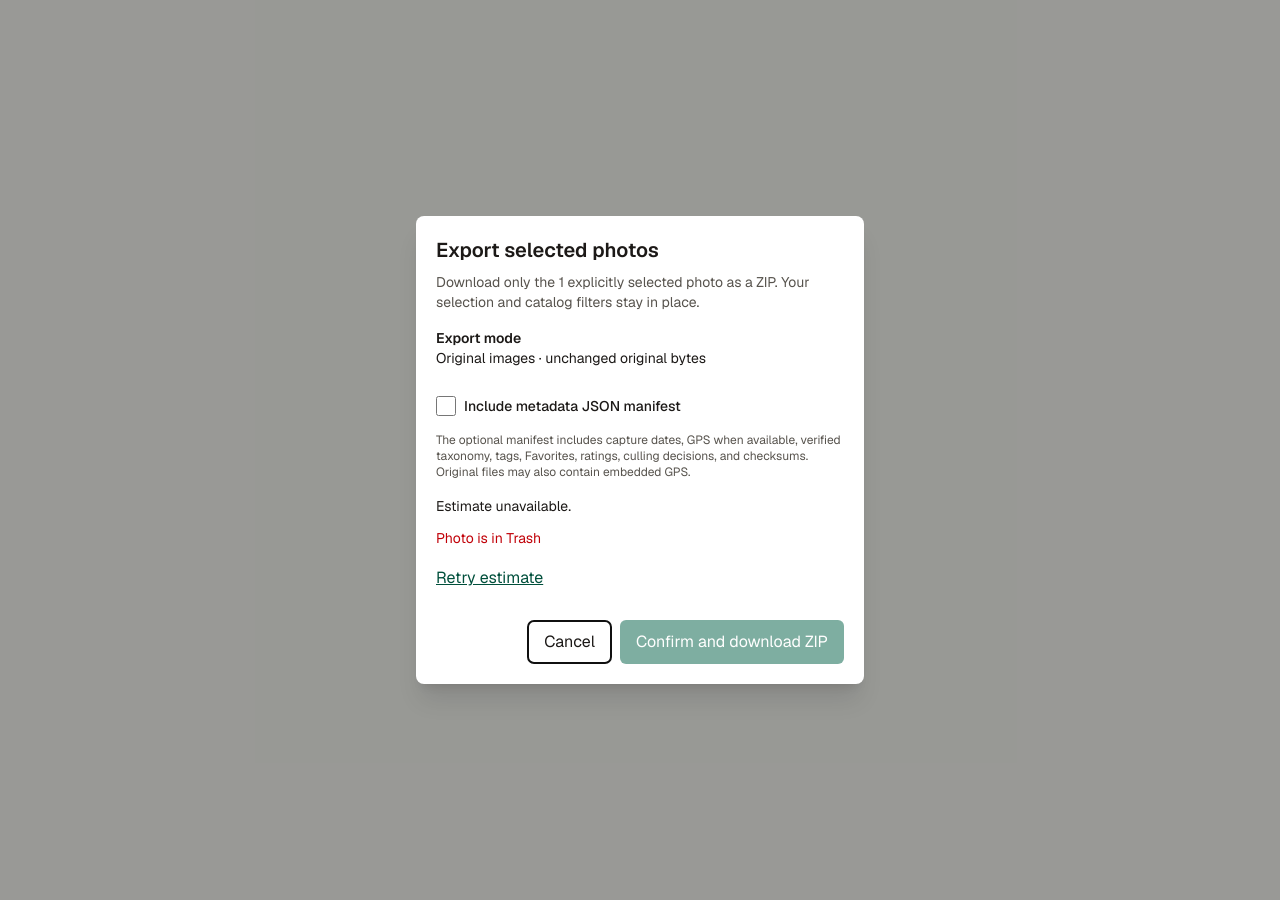
it: estimate failure disables confirmation and can be retried
Check: the message "Photo is in Trash" is shown, box [436,529,541,547]
Check: the button "Confirm and download ZIP" is disabled, box [620,620,844,664]
Click the button "Retry estimate" at [490, 578], box [436,556,543,600]
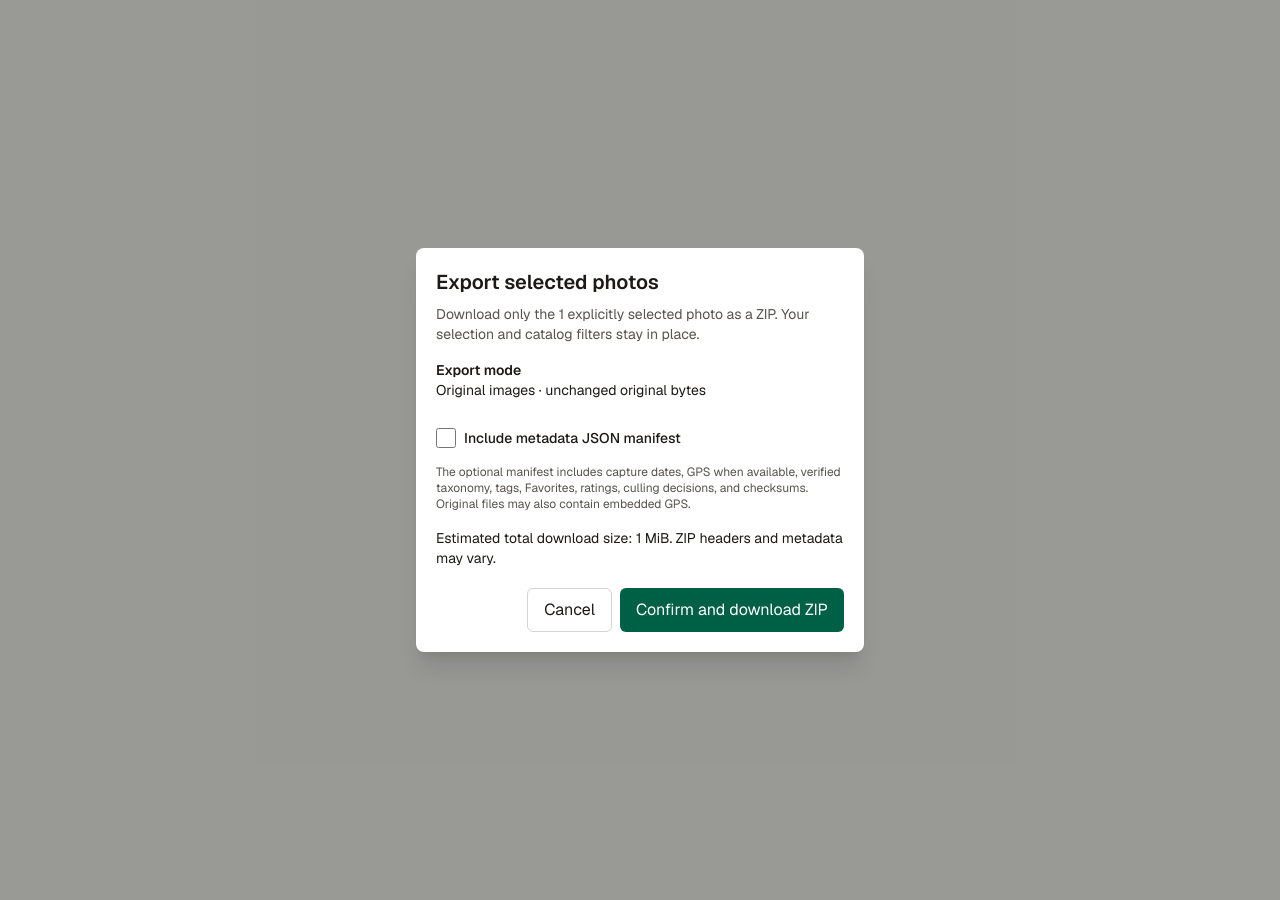
Check: the text "Estimated total download size: 1 MiB. ZIP headers and metadata may vary." is shown, box [436,528,844,568]
Check: the button "Confirm and download ZIP" is enabled, box [620,588,844,632]
